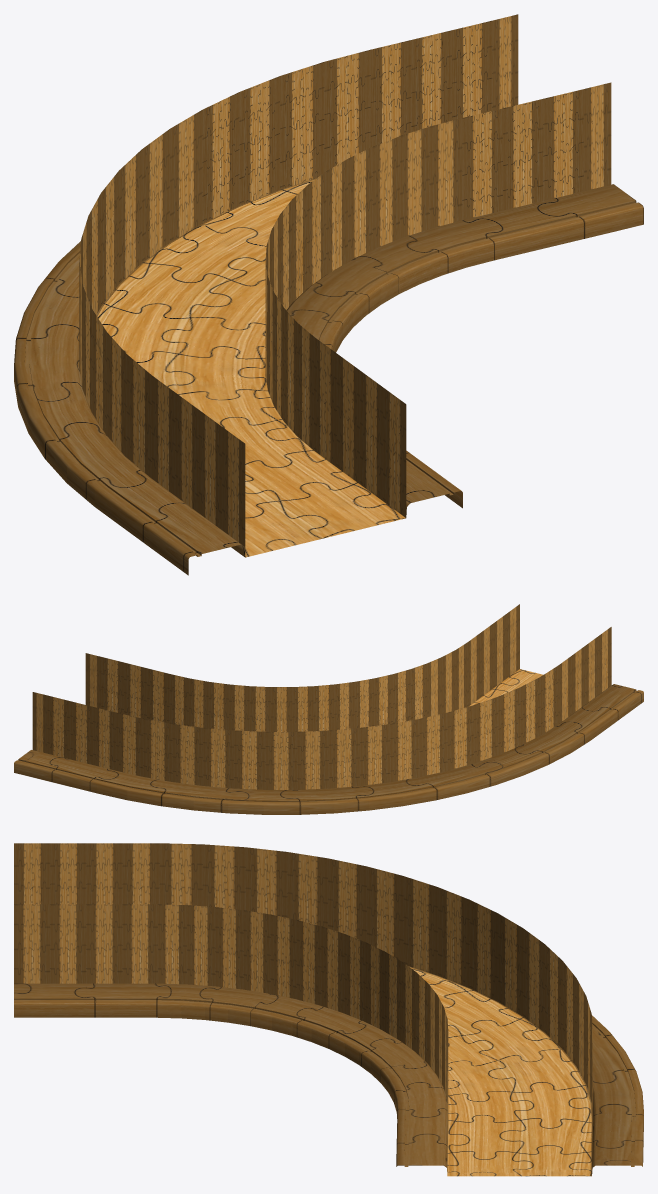
The model's file is Road_Turn_Long.fbx.
3 renders of one model, top to bottom at view 1: azimuth 30°, elevation 25°; view 2: azimuth 150°, elevation 25°; view 3: azimuth 270°, elevation 25°, orthographic. The views are drawn at different scales.
Parts seen in each view (by area): view 1: Road_Turn_Long_col, Road_Turn_Long; view 2: Road_Turn_Long_col, Road_Turn_Long; view 3: Road_Turn_Long_col, Road_Turn_Long.
Boxes of the visible parts, x1,y1,x2,y2 form: Road_Turn_Long_col: (79,14,611,555); Road_Turn_Long: (14,178,643,575); Road_Turn_Long_col: (32,604,611,789); Road_Turn_Long: (14,669,643,814); Road_Turn_Long_col: (14,843,592,1176); Road_Turn_Long: (14,966,643,1176).
Size of the model in its own units: 6963 by 1121 by 6965.
